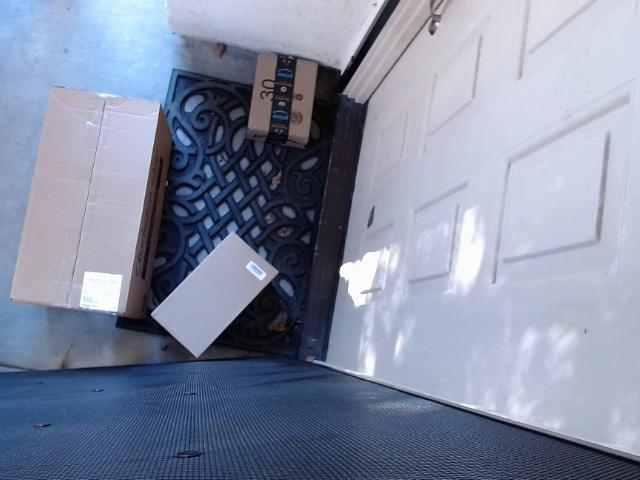box: (3, 64, 178, 327), (142, 212, 317, 358), (217, 0, 330, 165)
